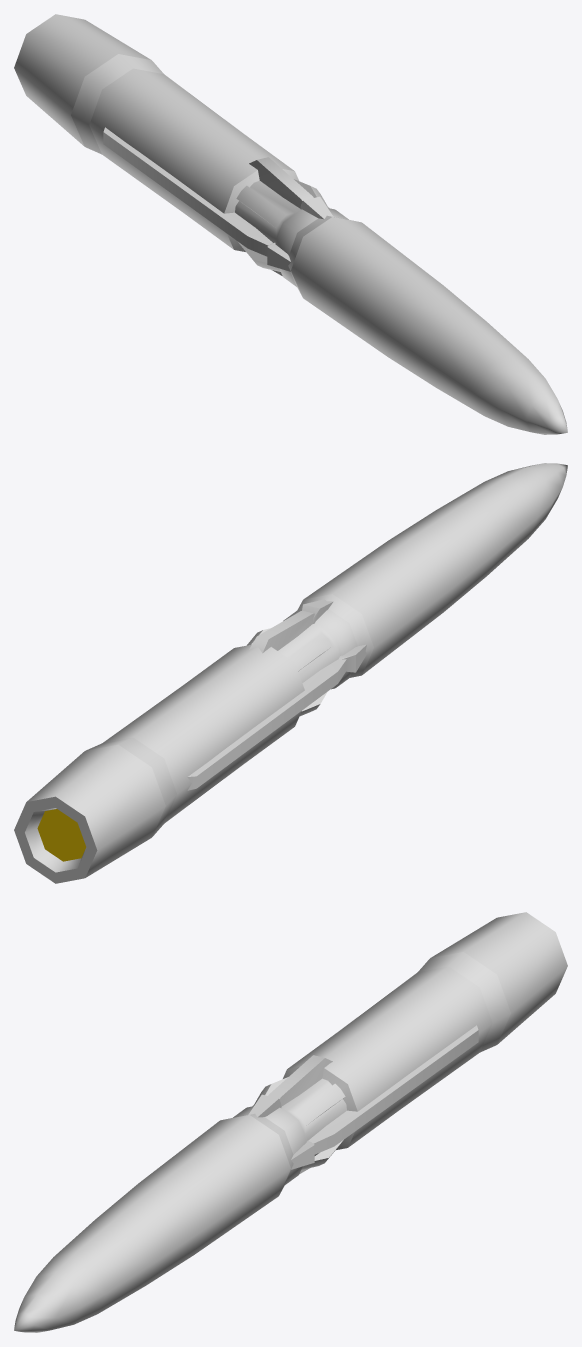
The model's file is VSM-3 FullLod1.fbx.
3 renders of one model, top to bottom at view 1: azimuth 30°, elevation 25°; view 2: azimuth 150°, elevation 25°; view 3: azimuth 330°, elevation 25°, orthographic.
Parts seen in each view (by area): view 1: VSM-3 Stage 1 LOD1; view 2: VSM-3 Stage 1 LOD1; view 3: VSM-3 Stage 1 LOD1.
Part boxes in pixels (x1=…): VSM-3 Stage 1 LOD1: x1=14, y1=14, x2=567, y2=434; VSM-3 Stage 1 LOD1: x1=14, y1=463, x2=567, y2=883; VSM-3 Stage 1 LOD1: x1=14, y1=912, x2=567, y2=1332.
Size of the model in its own units: 11.35 by 106 by 11.6.
